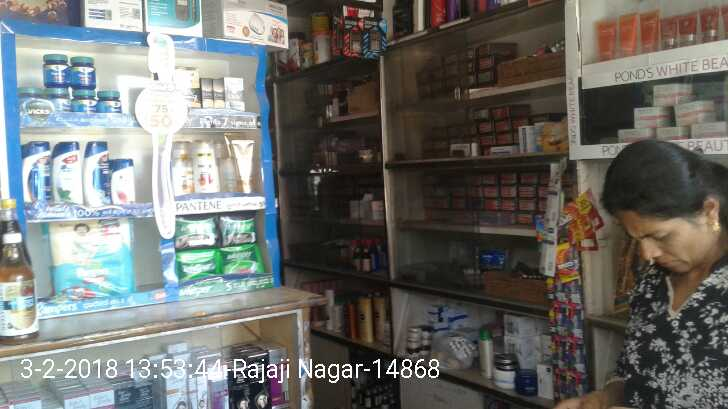beauty: (50, 136, 81, 204), (80, 140, 110, 202), (193, 138, 220, 193), (226, 137, 252, 194), (110, 156, 138, 198), (201, 69, 225, 113)
pharmacy: (40, 221, 135, 300), (178, 215, 222, 249), (37, 50, 73, 90), (219, 246, 264, 278), (178, 249, 218, 282), (218, 215, 263, 244), (67, 53, 95, 89), (96, 90, 121, 112), (48, 89, 68, 113), (70, 92, 94, 110)
